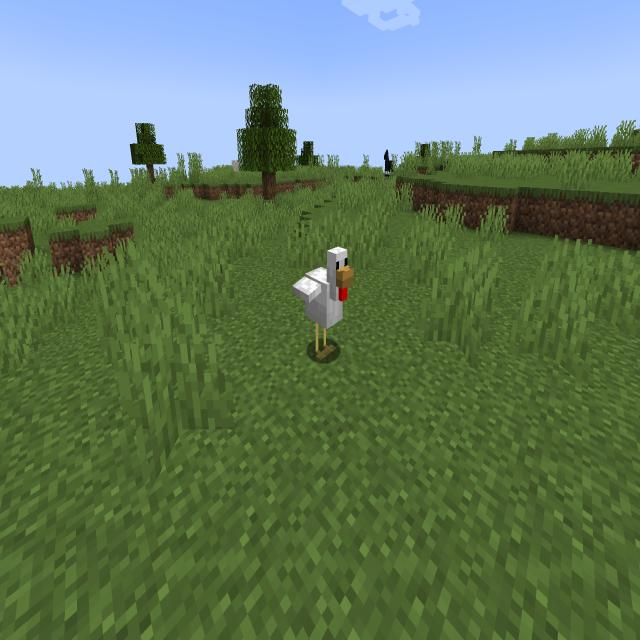chicken: (289, 239, 358, 370)
